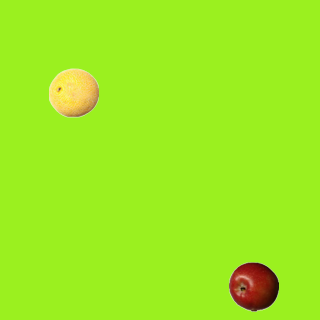Apple Braeburn: (228, 261, 278, 311)
Cantaloupe 1: (48, 67, 98, 117)
